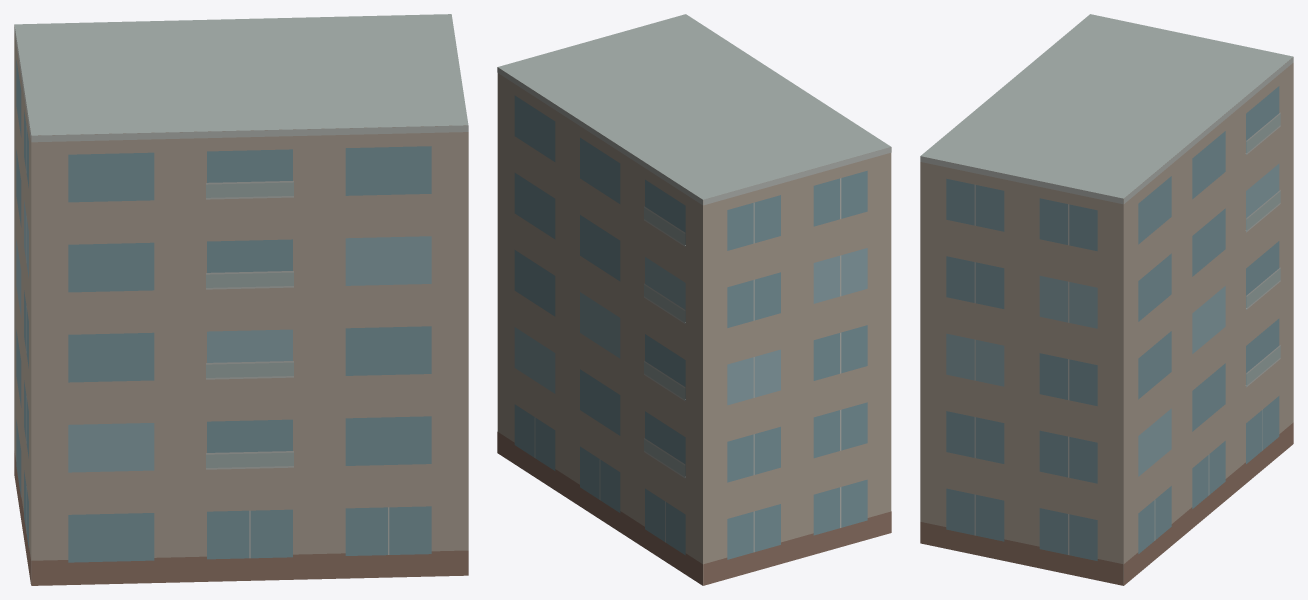
The model's file is survey-upis-32524796.glb.
The picture shows the model from 3 angles, left to right: view 1: azimuth 30°, elevation 25°; view 2: azimuth 150°, elevation 25°; view 3: azimuth 270°, elevation 25°; orthographic projection. The views are drawn at different scales.
Parts seen in each view (by area): view 1: survey-upis-32524796.tmp; view 2: survey-upis-32524796.tmp; view 3: survey-upis-32524796.tmp.
Boxes of the visible parts, left/top/right/bottom form: survey-upis-32524796.tmp: left=14, top=14, right=468, bottom=585; survey-upis-32524796.tmp: left=497, top=14, right=891, bottom=585; survey-upis-32524796.tmp: left=920, top=14, right=1293, bottom=585.
Bounding box in the file's own units: 16.78 × 16.4 × 14.34.
